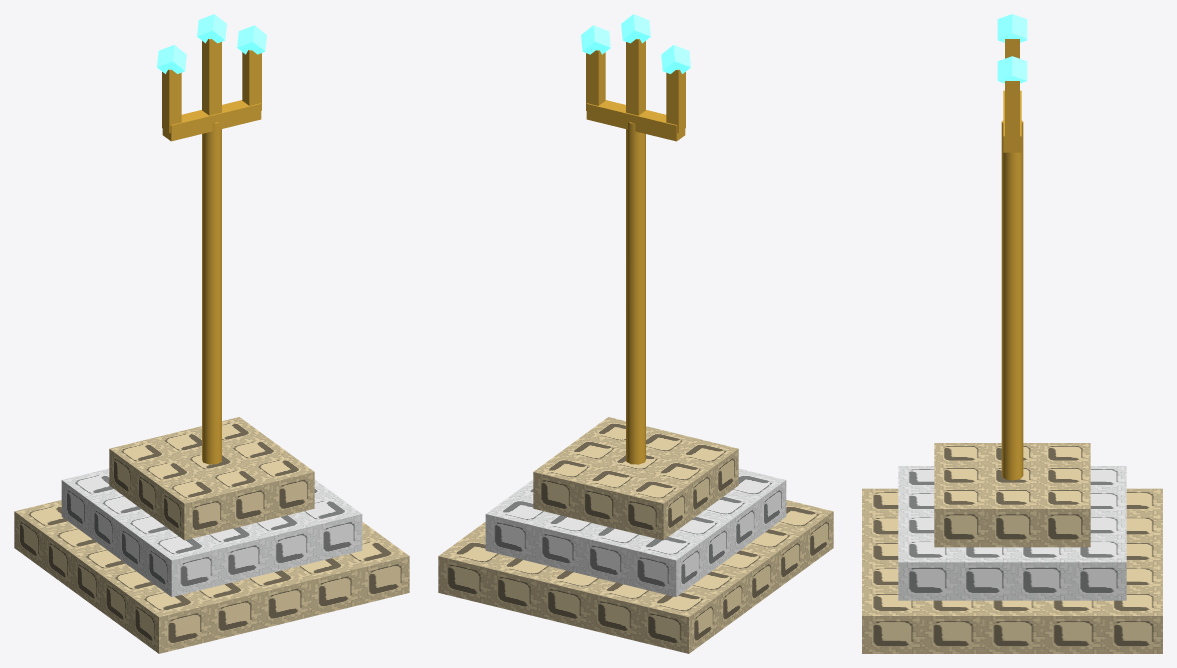
Rendered from TridentAltar.glb.
3 views of the same model, side by side, from view 1: azimuth 30°, elevation 25°; view 2: azimuth 150°, elevation 25°; view 3: azimuth 270°, elevation 25° (orthographic). The views are drawn at different scales.
Visible parts, largest first — view 1: TridentAltar, TridentAltar_Glow; view 2: TridentAltar, TridentAltar_Glow; view 3: TridentAltar, TridentAltar_Glow.
Part boxes in pixels (x1,y1,x2,y2): TridentAltar: (14,39,409,653); TridentAltar_Glow: (157,14,266,73); TridentAltar: (438,39,833,653); TridentAltar_Glow: (581,14,690,73); TridentAltar: (862,39,1162,653); TridentAltar_Glow: (997,14,1027,83).
Size of the model in its own units: 5 by 10.6 by 5.
Materials: 2 (1 with a texture image).
